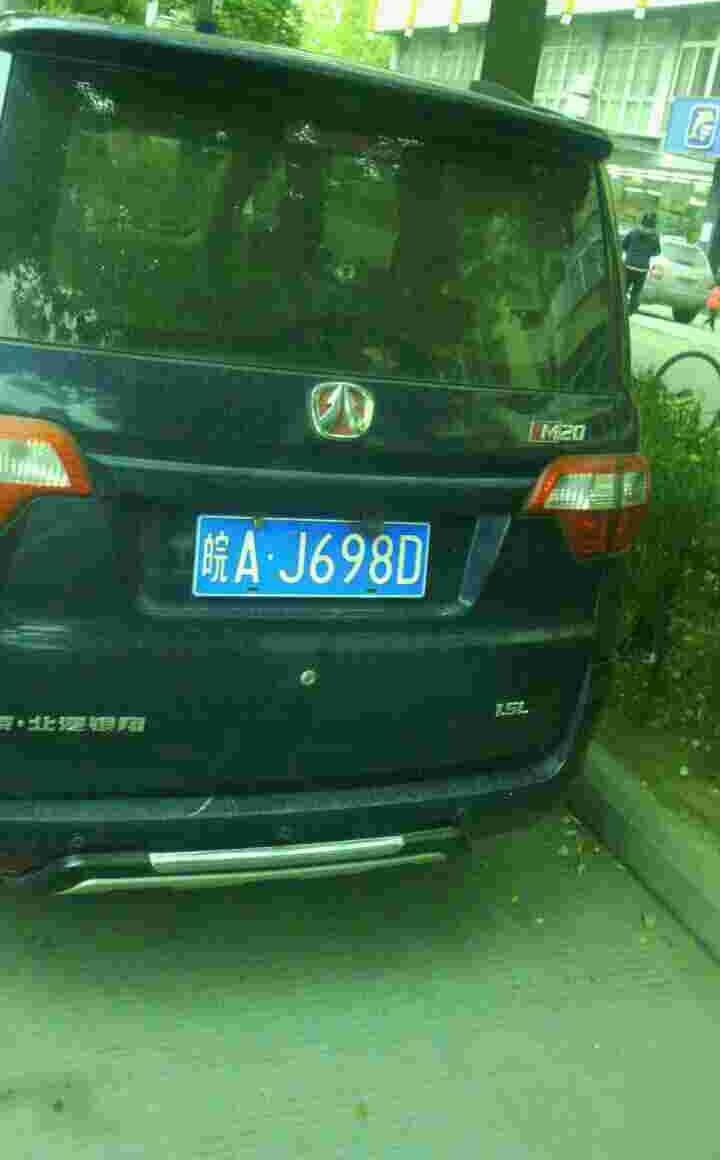plate: (198, 514, 439, 603)
